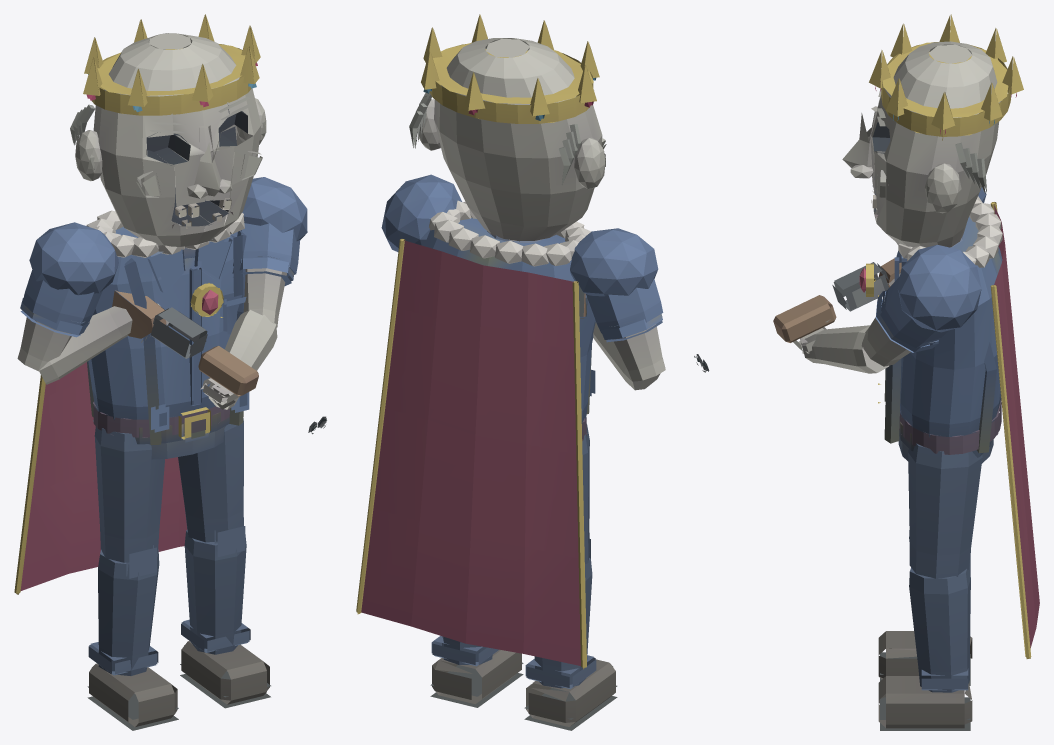
File: GrandfatherKing.glb
The picture shows the model from 3 angles, left to right: view 1: azimuth 30°, elevation 25°; view 2: azimuth 150°, elevation 25°; view 3: azimuth 270°, elevation 25°; orthographic projection.
Visible parts, largest first — view 1: Body, Head, LegR, LegL, ArmR, ArmL; view 2: Body, Head, ArmR, LegR, LegL, ArmL; view 3: Body, Head, LegL, ArmL, LegR.
Part boxes in pixels (box(x1,y1,x2,y2)): Body: box(14, 210, 326, 594); Head: box(70, 14, 266, 246); LegR: box(87, 426, 178, 730); LegL: box(178, 418, 270, 708); ArmR: box(17, 222, 169, 384); ArmL: box(200, 177, 307, 409); Body: box(356, 200, 595, 669); Head: box(409, 14, 606, 241); ArmR: box(570, 228, 665, 390); LegR: box(524, 424, 617, 730); LegL: box(430, 636, 523, 707); ArmL: box(381, 174, 461, 251); Body: box(694, 196, 1039, 658); Head: box(842, 14, 1023, 247); LegL: box(878, 443, 982, 730); ArmL: box(793, 244, 981, 373); LegR: box(878, 530, 972, 685).
Size of the model in its own units: 2.76 by 6.19 by 2.99.
